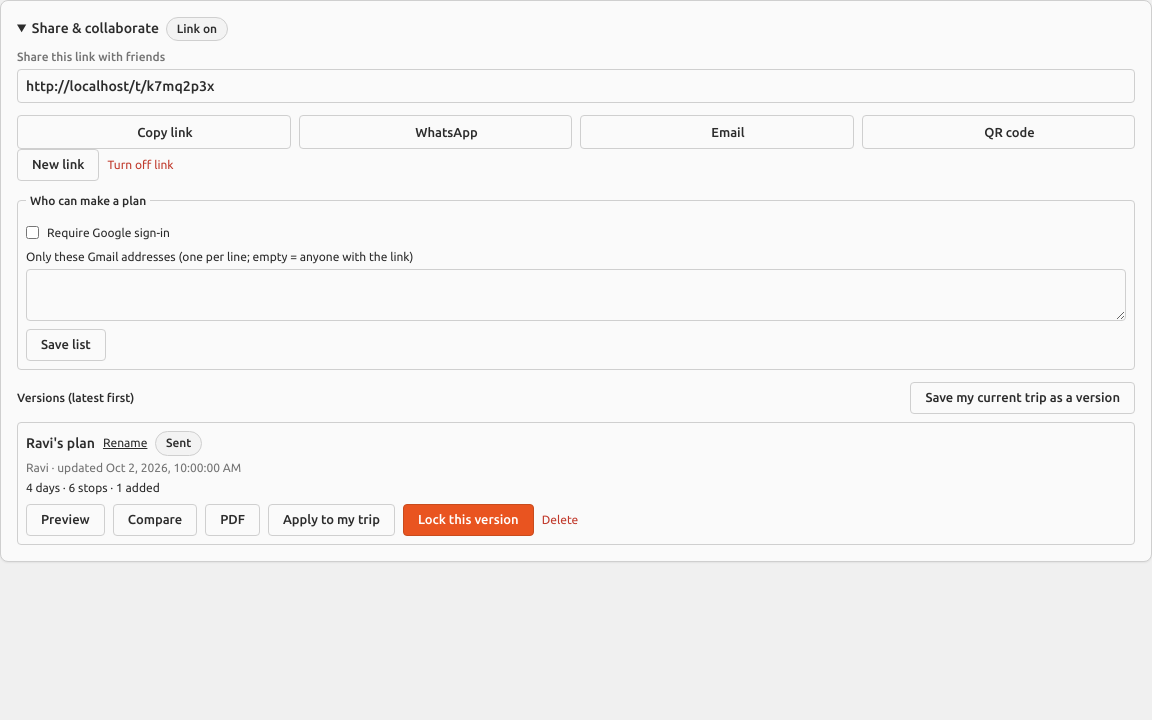
TripSharePanelComponent › locks only after confirming, and applies by default
Click the button with test id "version-lock": (468, 520) [403,504,534,536]
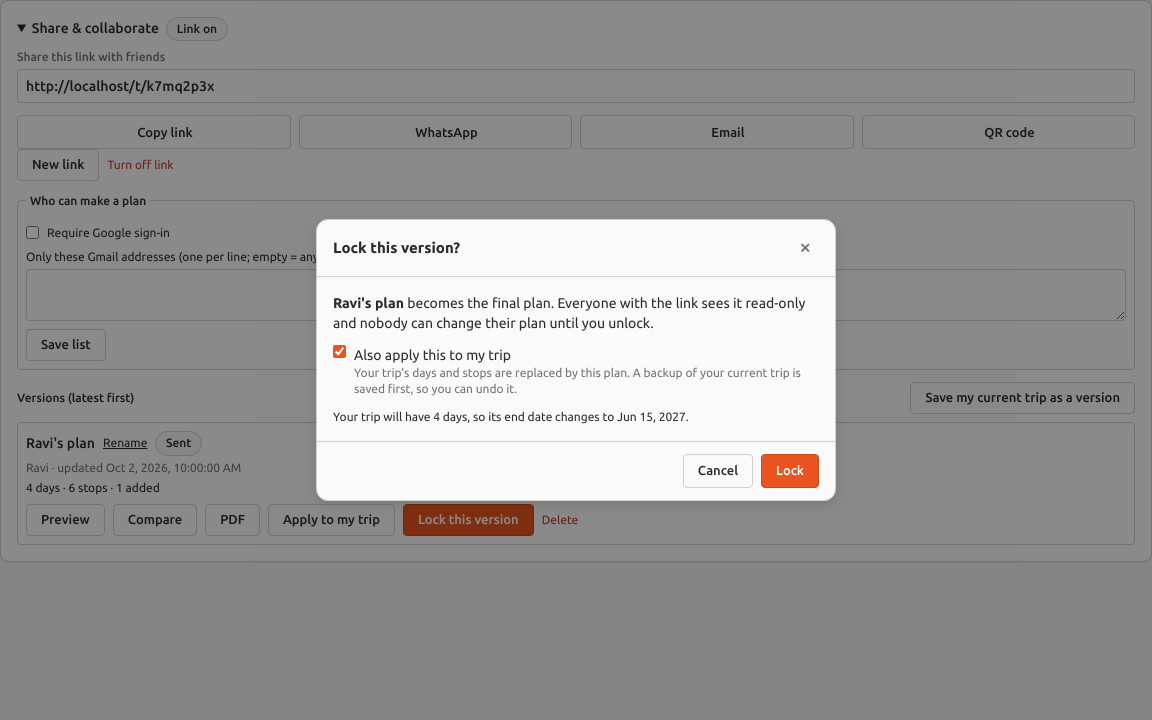
Check: the checkbox with test id "lock-apply" is checked, box [333,345,346,358]
Check: the text with test id "lock-end-date" shows "4 days", box [333,410,689,423]
Click the button with test id "lock-confirm": (790, 471) [761,454,819,488]
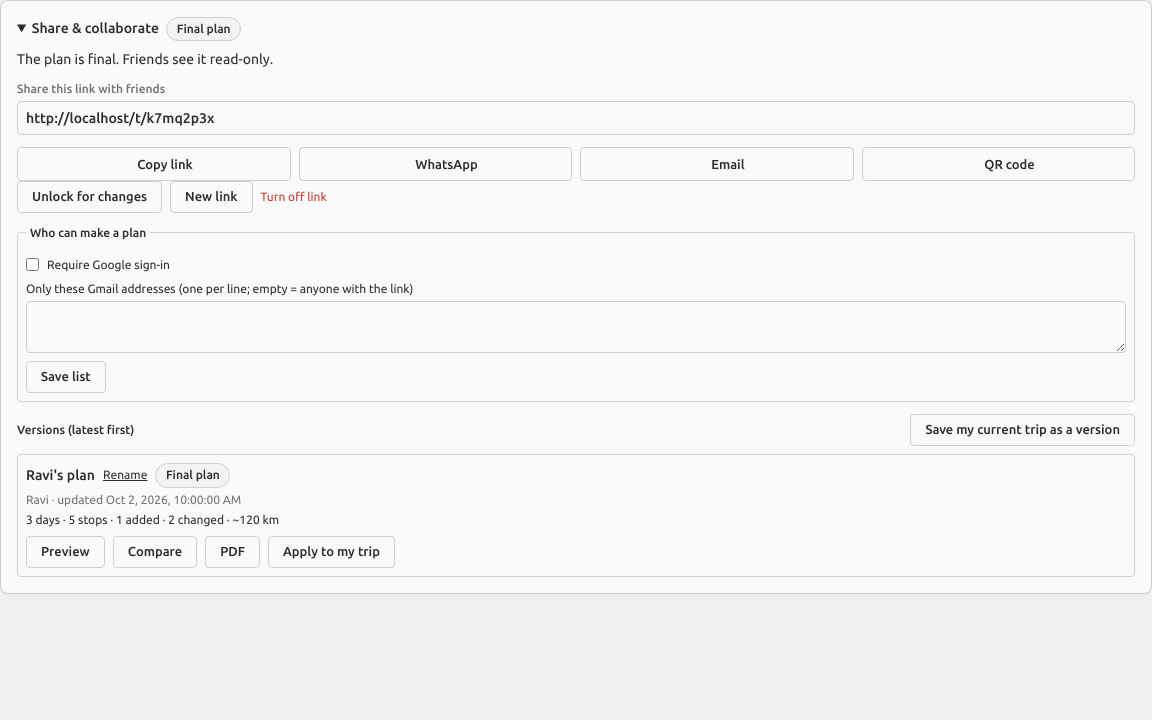
Check: the text "The plan is final. Friends see it read-only." is shown, box [17,51,273,67]
Check: the text with test id "version-badge" reads "Final plan", box [166,468,220,481]
